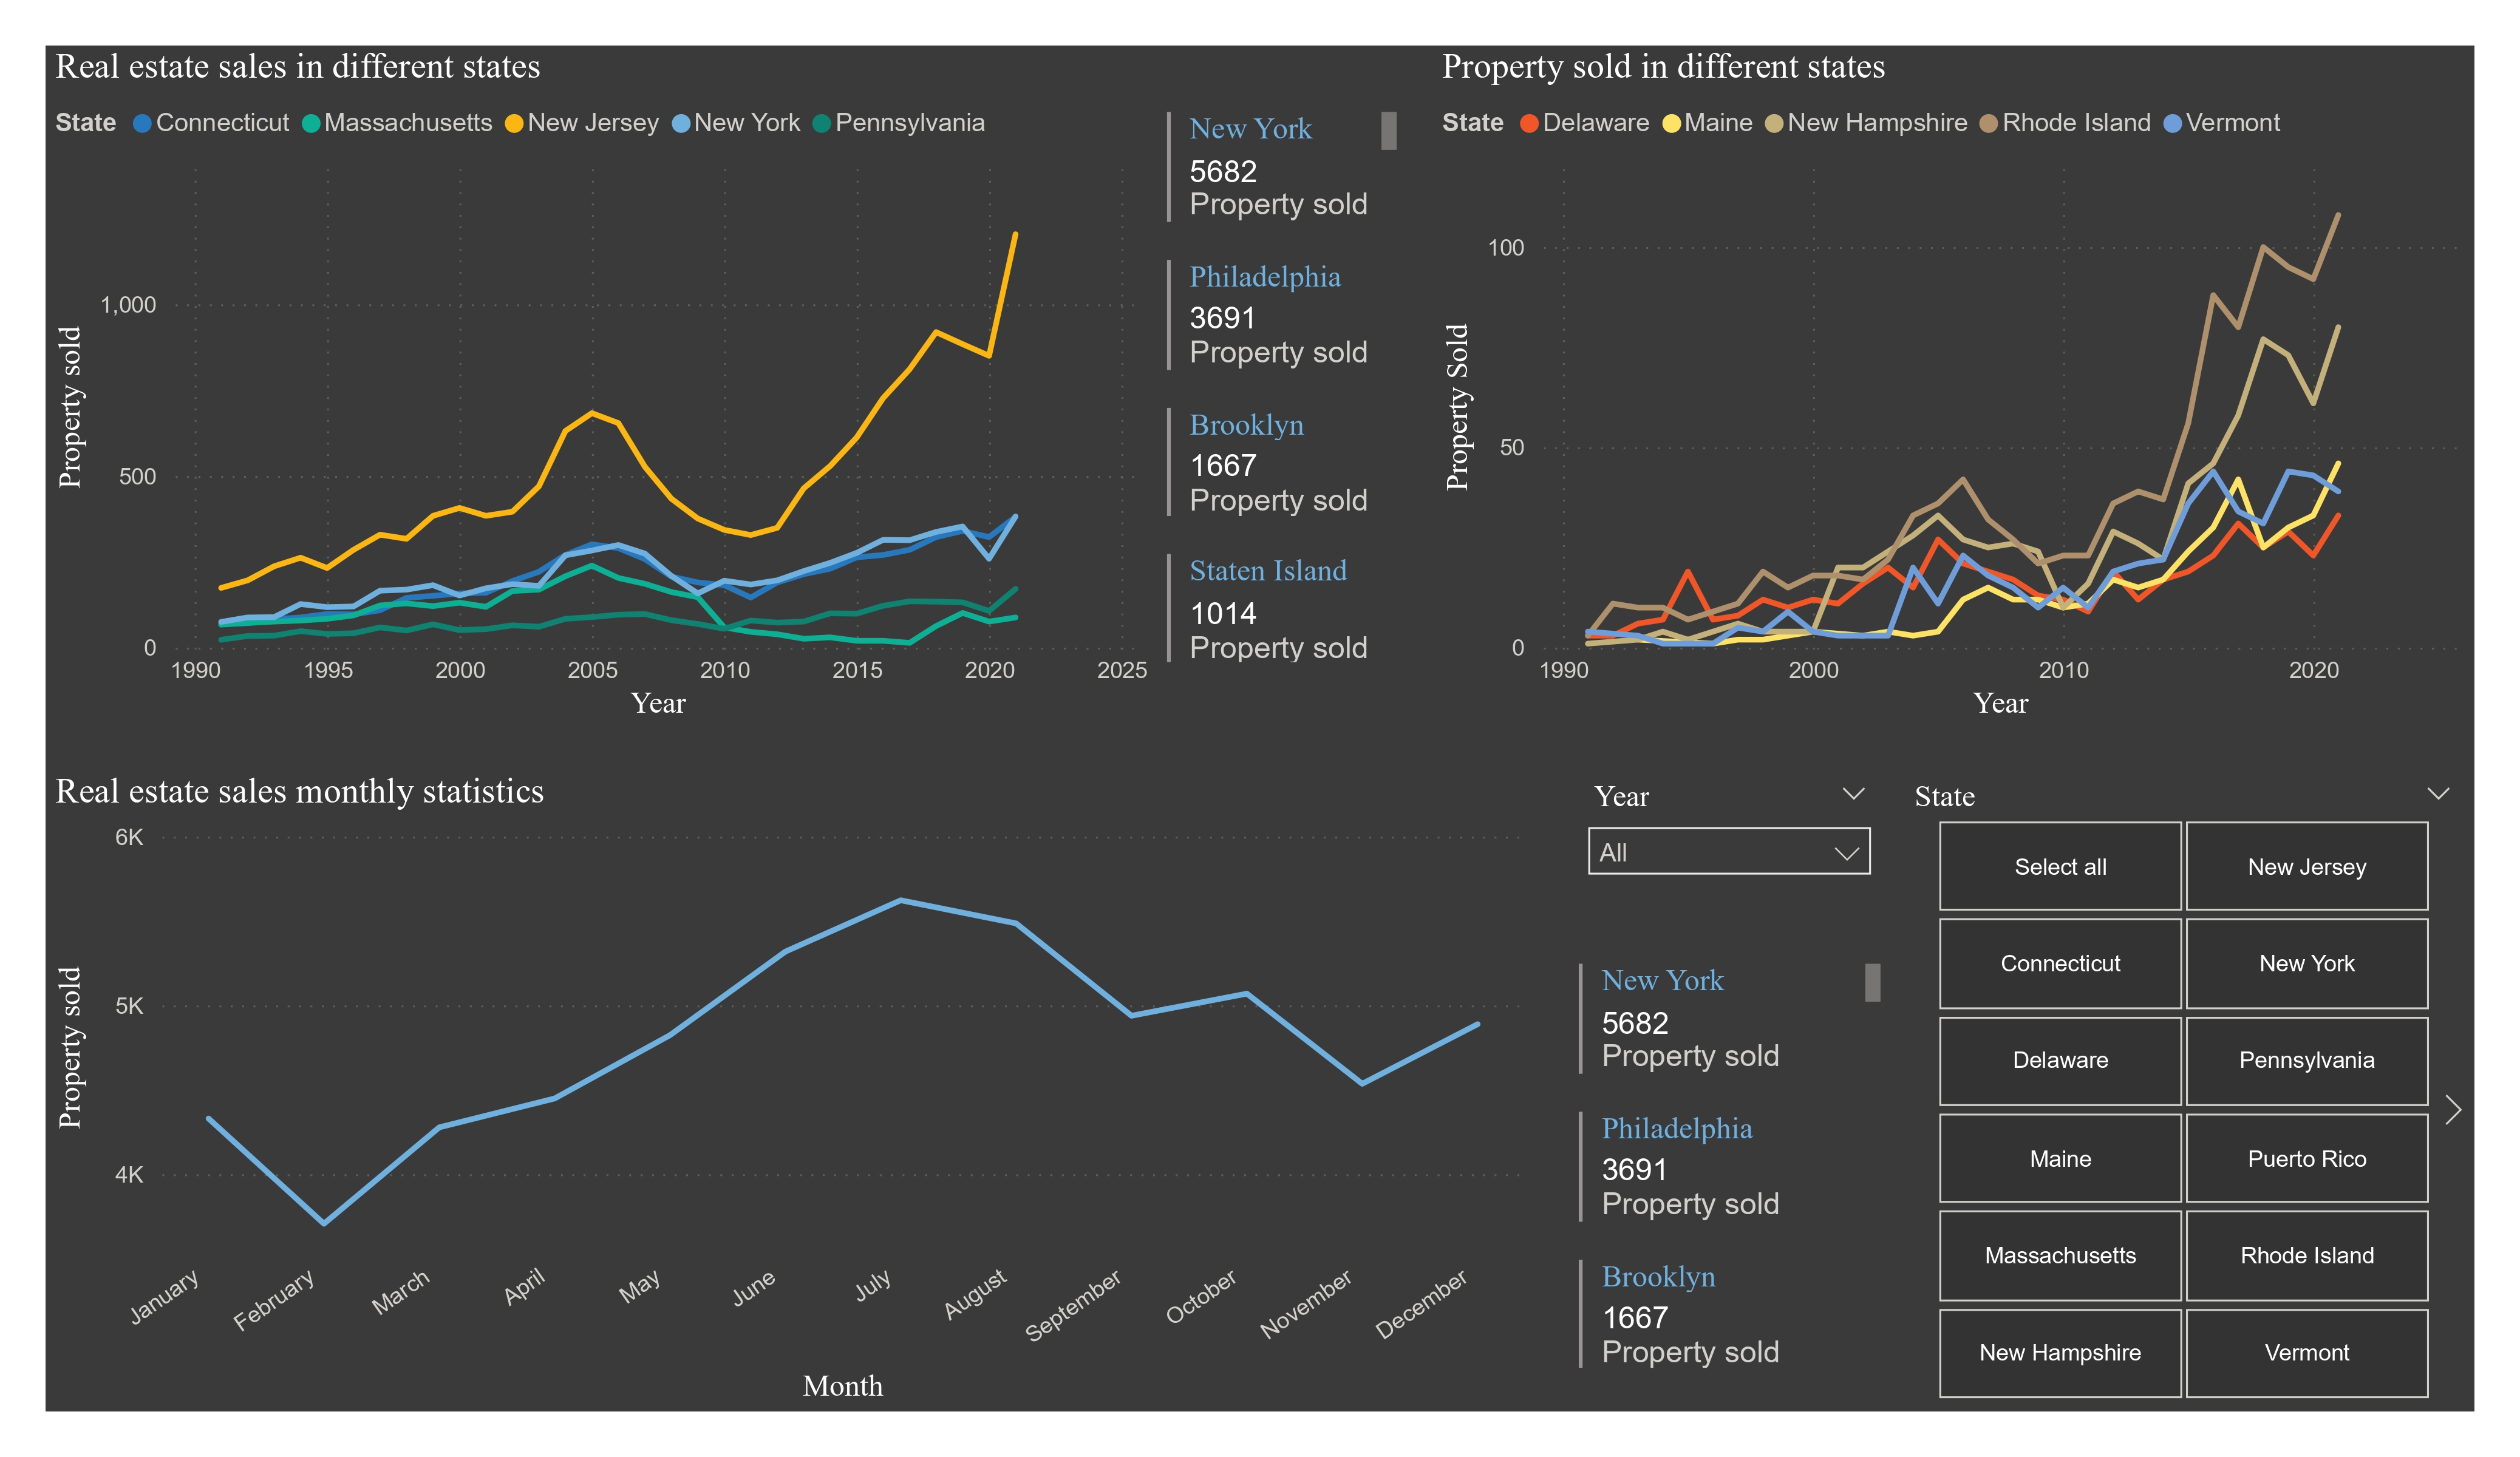

The page's visual inventory and layout, read from the dashboard file:
{"tool":"powerbi","page":{"name":"Property sold by year and month Dashboard","canvas":[1280,720],"ordinal":2},"visuals":[{"type":"lineChart","title":"Real estate sales in different states","fields":{"Category":["Property sold.Year"],"Y":["CountNonNull(Property sold.State)"],"Series":["Property sold.State"]},"box":[0,0,586.3,360],"z":0},{"type":"lineChart","title":"Property sold in different states","fields":{"Category":["Property sold.Year"],"Y":["CountNonNull(Property sold.State)"],"Series":["Property sold.State"]},"box":[730.8,0,549.5,360],"z":1000},{"type":"lineChart","title":"Real estate sales monthly statistics","fields":{"Category":["Property sold month.Month"],"Y":["Sum(Property sold month.Property sold)"]},"box":[0,381.8,784,338.1],"z":2000},{"type":"slicer","fields":{"Values":["Property sold month.State"]},"box":[972.1,381.8,308.1,338.1],"z":3000},{"type":"slicer","fields":{"Values":["Property sold month.Year"]},"box":[803.1,381.8,169.1,76.4],"z":4000},{"type":"multiRowCard","fields":{"Values":["Property sold month.City","Sum(Property sold month.Property sold)"]},"box":[803.1,478.6,169.1,227.7],"z":5000},{"type":"multiRowCard","fields":{"Values":["Property sold.City","Sum(Property sold.Property sold)"]},"box":[586.3,30,130.9,300],"z":6000}]}

Visuals, with their boxes on the page's 1280x720 design canvas (x1, y1, x2, y2). These are canvas units, not pixel positions in the 2520x1457 screenshot, which may show the page scaled, cropped or inside an application window:
"Real estate sales in different states" lineChart: region(0, 0, 586, 360)
"Property sold in different states" lineChart: region(731, 0, 1280, 360)
"Real estate sales monthly statistics" lineChart: region(0, 382, 784, 720)
slicer - Property sold month.State: region(972, 382, 1280, 720)
slicer - Property sold month.Year: region(803, 382, 972, 458)
multiRowCard - Property sold month.City x Sum(Property sold month.Property sold): region(803, 479, 972, 706)
multiRowCard - Property sold.City x Sum(Property sold.Property sold): region(586, 30, 717, 330)
